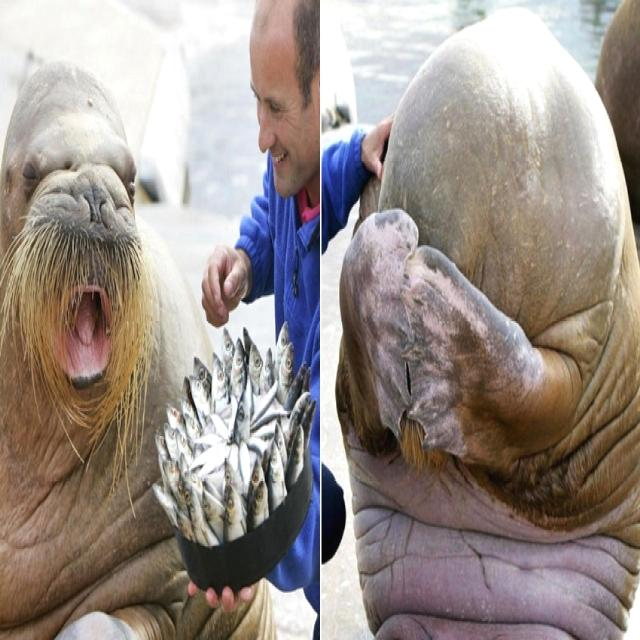walrus: (11, 46, 172, 507)
